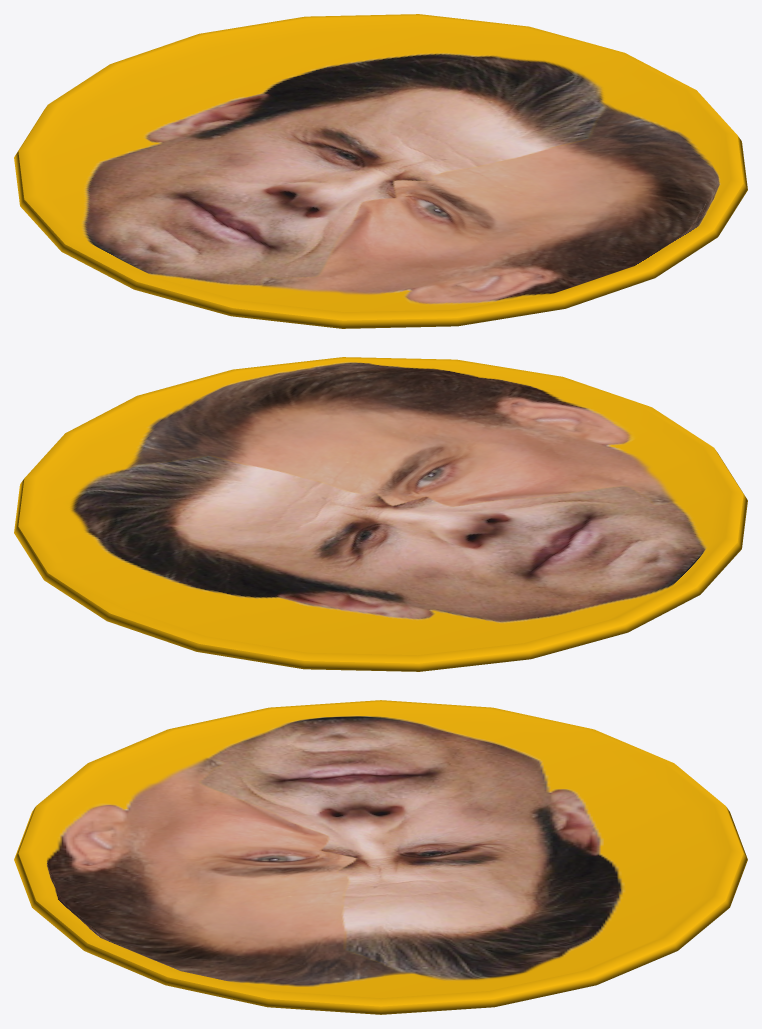
The model's file is Plate.fbx.
The picture shows the model from 3 angles, top to bottom: view 1: azimuth 30°, elevation 25°; view 2: azimuth 150°, elevation 25°; view 3: azimuth 270°, elevation 25°; orthographic projection.
Visible parts, largest first — view 1: Plate; view 2: Plate; view 3: Plate.
Boxes of the visible parts, bbox=[...] form: Plate: bbox=[14, 14, 747, 328]; Plate: bbox=[14, 357, 747, 671]; Plate: bbox=[14, 700, 747, 1014].
Size of the model in its own units: 2 by 0.0446 by 2.
1 material, 1 textured.
